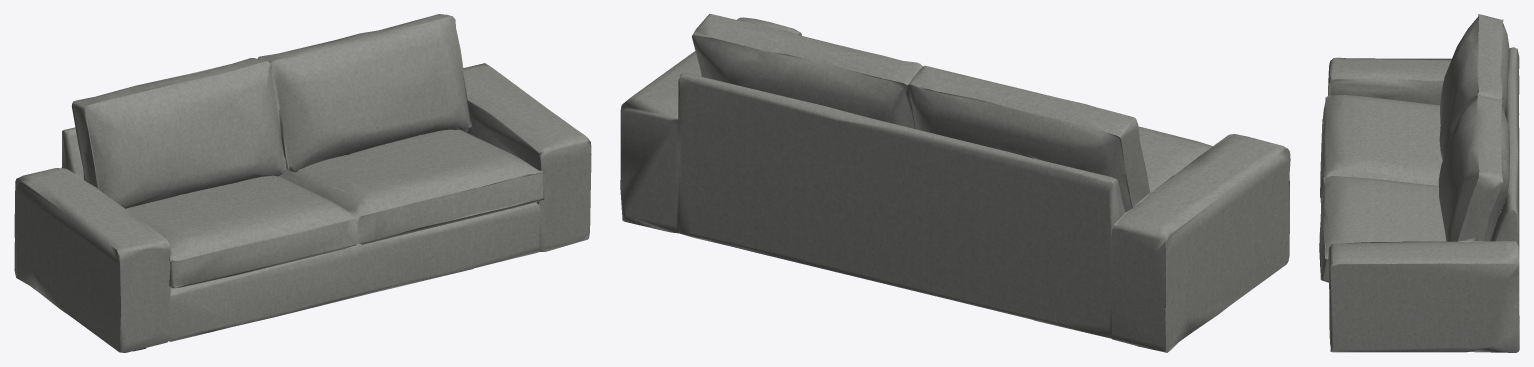
3 views of the same model, side by side, from view 1: azimuth 30°, elevation 25°; view 2: azimuth 150°, elevation 25°; view 3: azimuth 270°, elevation 25° (orthographic). The views are drawn at different scales.
Visible parts, largest first — view 1: 30526911-KIVIK001; view 2: 30526911-KIVIK001; view 3: 30526911-KIVIK001.
Part boxes in pixels (left/top/right/bottom): 30526911-KIVIK001: left=14, top=14, right=591, bottom=352; 30526911-KIVIK001: left=620, top=14, right=1290, bottom=352; 30526911-KIVIK001: left=1319, top=14, right=1519, bottom=352.
Size of the model in its own units: 2.29 by 0.848 by 0.9435.
Materials: 1 (1 with a texture image).
